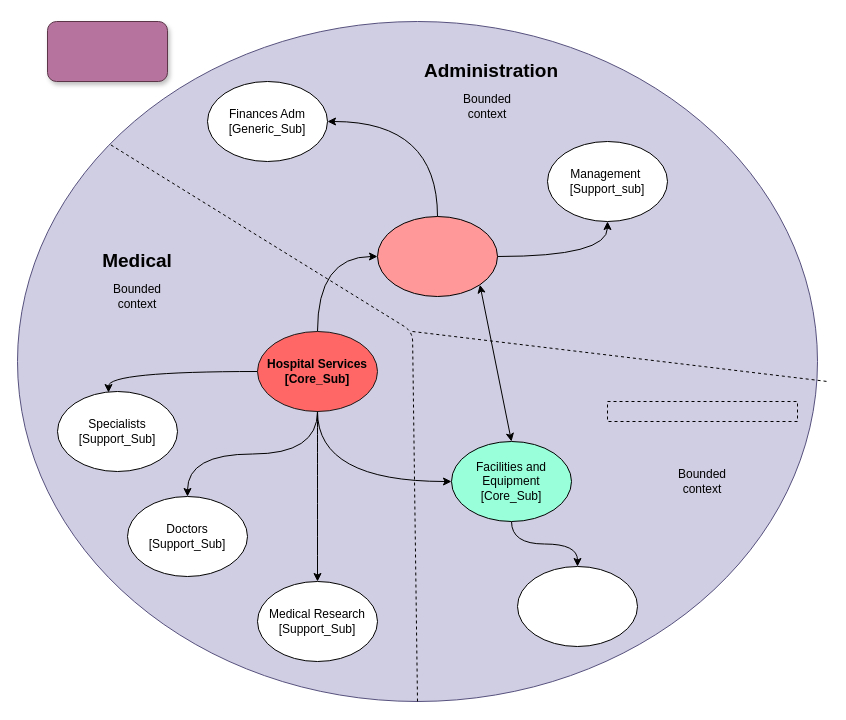
The diagram is 846 pixels wide and 720 high, and some of its shapes have lost their labels. The centre of each missing label's shape, as x and y in pixels:
"Administration [Generic_Sub]" goes at (x=437, y=256).
"Facilities" goes at (x=702, y=411).
"HOSPITAL" goes at (x=108, y=52).
"Support Centers [Generic_Sub]" goes at (x=577, y=606).
